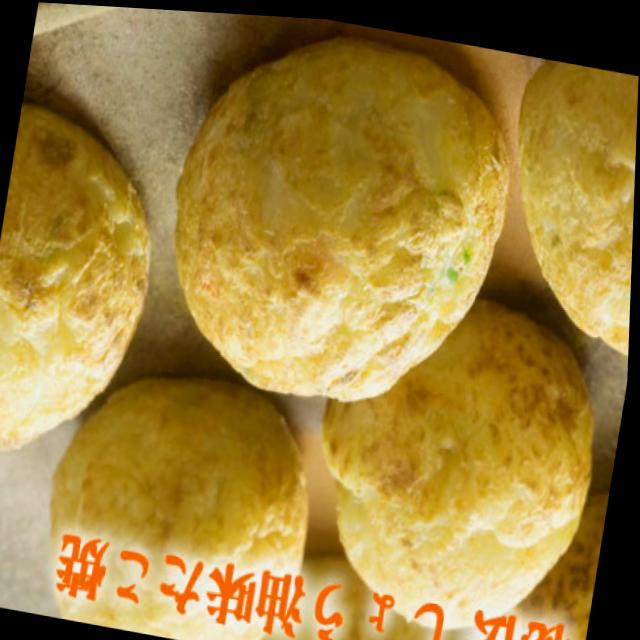炸货点心: (139, 7, 538, 449)
